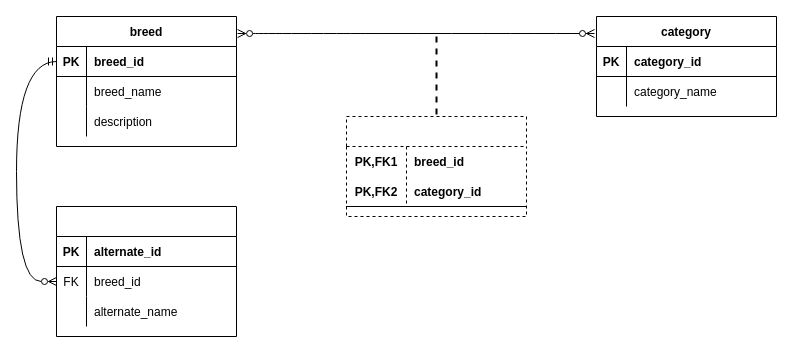
The diagram is 793 pixels wide and 353 high, and some of its shapes have lost their labels. Here are the shapes that lost their labels. From the top down, the box of each, then its label:
(346, 116, 526, 216): breed_category
(56, 206, 236, 336): alt_name
